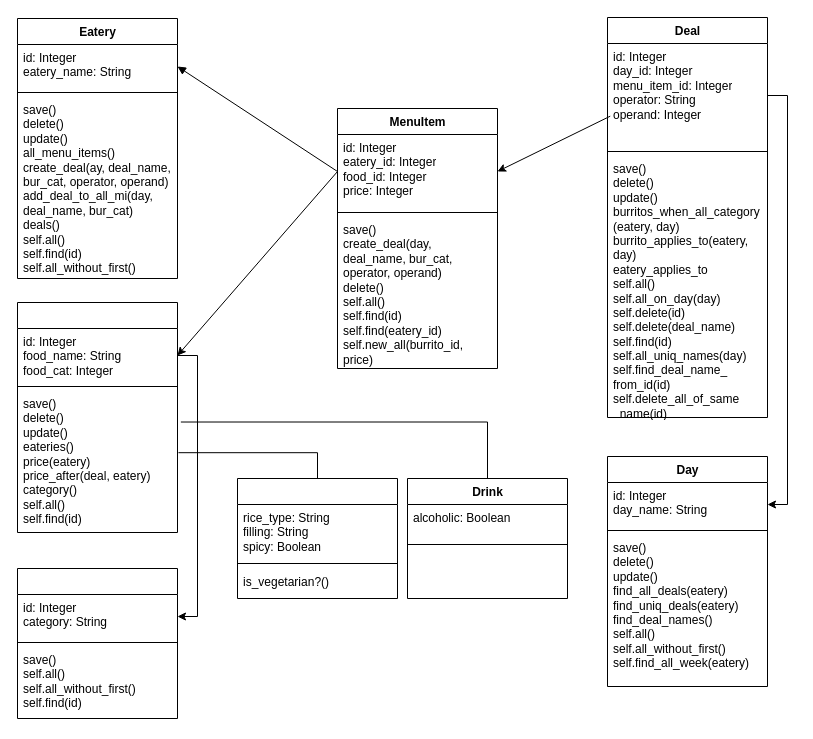
The diagram is 813 pixels wide and 739 high, and some of its shapes have lost their labels. Each missing label, with the box of its shape:
Burrito: (236, 478, 398, 598)
FoodCategory: (16, 568, 178, 718)
FoodItem: (16, 302, 178, 532)
